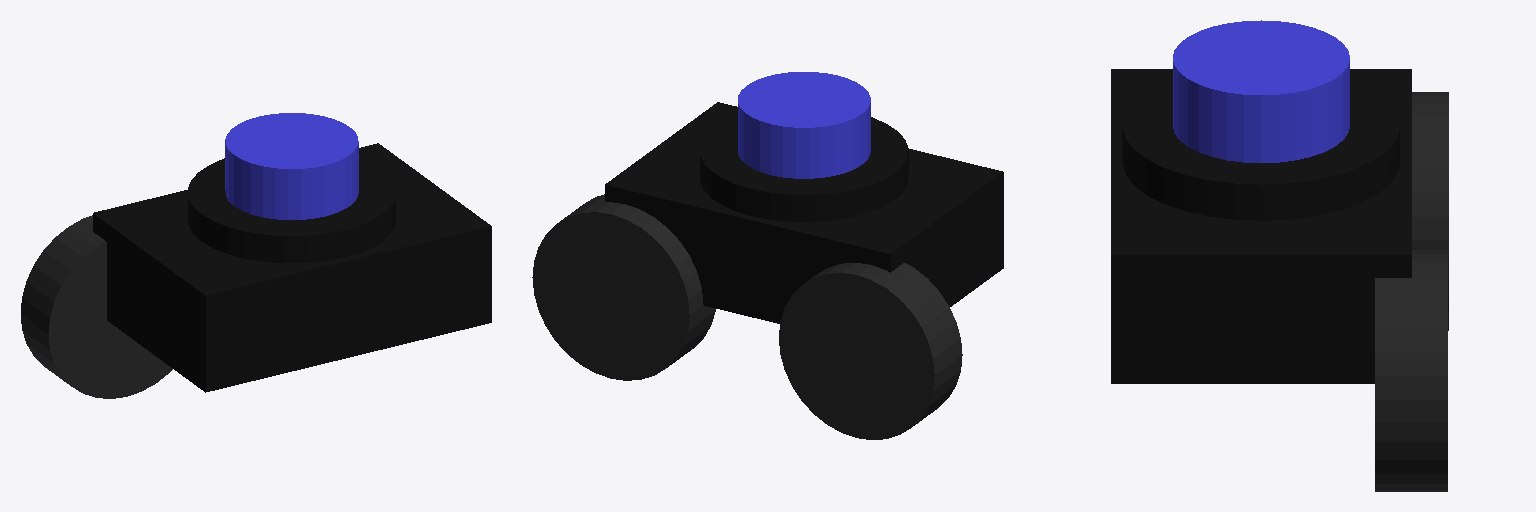
The robot description file, URDF, robot "evolved_robot":
<?xml version="1.0"?>
<robot name="evolved_robot">
  <material name="metal">
    <color rgba="0.7 0.7 0.7 1.0"/>
  </material>
  <material name="plastic">
    <color rgba="0.3 0.3 0.9 1.0"/>
  </material>
  <material name="rubber">
    <color rgba="0.1 0.1 0.1 1.0"/>
  </material>
  <material name="red">
    <color rgba="1.0 0.0 0.0 1.0"/>
  </material>
  <material name="wheel_material">
    <color rgba="0.2 0.2 0.2 1.0"/>
  </material>
  <link name="base_link">
    <visual>
      <geometry><box size="0.28637169089568115 0.1960602003020291 0.09287101595846198"/></geometry>
      <material name="rubber"/>
    </visual>
    <collision>
      <geometry><box size="0.28637169089568115 0.1960602003020291 0.09287101595846198"/></geometry>
    </collision>
    <inertial>
      <mass value="5.0"/>
      <inertia ixx="0.03922052312302388" ixy="0" ixz="0" 
               iyy="0.07552814245967372" iyz="0" 
               izz="0.10037362290743611"/>
    </inertial>
  </link>
  <link name="link1">
    <visual>
      <geometry><cylinder radius="0.09072331750728062" length="0.05224604820342885"/></geometry>
      <material name="rubber"/>
    </visual>
    <collision>
      <geometry><cylinder radius="0.09072331750728062" length="0.05224604820342885"/></geometry>
    </collision>
    <inertial>
      <mass value="0.5"/>
      <inertia ixx="0.00228515088095463" ixy="0" ixz="0" 
               iyy="0.00228515088095463" iyz="0" 
               izz="0.004115360169763425"/>
    </inertial>
  </link>
  <joint name="joint1" type="fixed">
    <parent link="base_link"/>
    <child link="link1"/>
    <origin xyz="0 0 0.04643550797923099" rpy="0 0 0"/>
    <axis xyz="-0.7124041055074635 0.4990807681182688 -0.4933546162250736"/>
    <dynamics damping="0.781245773549296" friction="0.1"/>
  </joint>
  <link name="link2">
    <visual>
      <geometry>
        <cylinder radius="0.0788071383776354" length="0.048028545692934216"/>
      </geometry>
      <material name="wheel_material"/>
    </visual>
    <collision>
      <geometry>
        <cylinder radius="0.0788071383776354" length="0.048028545692934216"/>
      </geometry>
    </collision>
    <inertial>
      <mass value="1.0"/>
      <inertia ixx="0.0017448696982661324" ixy="0" ixz="0" 
               iyy="0.0017448696982661324" iyz="0" 
               izz="0.003105282529635887"/>
    </inertial>
  </link>
  <joint name="joint2" type="continuous">
    <parent link="base_link"/>
    <child link="link2"/>
    <origin xyz="0.12318584544784057 0.09803010015101454 -0.04643550797923099" rpy="1.5708 0 0"/>
    <axis xyz="0 0 1"/>
    <dynamics damping="0.8995090492385468" friction="0.1"/>
  </joint>
  <link name="link3">
    <visual>
      <geometry><cylinder radius="0.057906016253063526" length="0.05"/></geometry>
      <material name="plastic"/>
    </visual>
    <collision>
      <geometry><cylinder radius="0.057906016253063526" length="0.05"/></geometry>
    </collision>
    <inertial>
      <mass value="0.5"/>
      <inertia ixx="0.0010466100129083477" ixy="0" ixz="0" 
               iyy="0.0010466100129083477" iyz="0" 
               izz="0.0016765533591500286"/>
    </inertial>
  </link>
  <joint name="joint3" type="revolute">
    <parent link="base_link"/>
    <child link="link3"/>
    <origin xyz="0 0 0.09643550797923099" rpy="0 0 0"/>
    <axis xyz="-0.5778677998062801 0.7147492811140795 -0.39395719449447225"/>
    <dynamics damping="0.6452047831008052" friction="0.1"/>
    <limit lower="-2.428232280574141" upper="1.4434792267609997" effort="100" velocity="100"/>
  </joint>
  <link name="link4">
    <visual>
      <geometry>
        <cylinder radius="0.07815080847927738" length="0.048557610339922924"/>
      </geometry>
      <material name="wheel_material"/>
    </visual>
    <collision>
      <geometry>
        <cylinder radius="0.07815080847927738" length="0.048557610339922924"/>
      </geometry>
    </collision>
    <inertial>
      <mass value="1.0"/>
      <inertia ixx="0.0017233740099848226" ixy="0" ixz="0" 
               iyy="0.0017233740099848226" iyz="0" 
               izz="0.003053774432982347"/>
    </inertial>
  </link>
  <joint name="joint4" type="continuous">
    <parent link="base_link"/>
    <child link="link4"/>
    <origin xyz="-0.12318584544784057 0.09803010015101454 -0.04643550797923099" rpy="1.5708 0 0"/>
    <axis xyz="0 0 1"/>
    <dynamics damping="0.6849628307493921" friction="0.1"/>
  </joint>
</robot>

--- What the picture shows (computed from the rendered views, not written in the file) ---
Views: 3 orthographic renders of the robot side by side, from view 1: azimuth 30°, elevation 25°; view 2: azimuth 150°, elevation 25°; view 3: azimuth 270°, elevation 25°.
Robot: evolved_robot — 5 links, 4 joints (1 revolute, 2 continuous, 1 fixed); root link base_link; default pose: all joints at 0.
Links seen in each view (by area): view 1: base_link, link4, link3, link1; view 2: base_link, link4, link2, link3, link1; view 3: base_link, link3, link1, link2, link4.
Link boxes in pixels (x1=…): base_link: x1=93, y1=143, x2=491, y2=392; link4: x1=21, y1=215, x2=172, y2=398; link3: x1=225, y1=113, x2=358, y2=219; link1: x1=188, y1=158, x2=395, y2=262; base_link: x1=605, y1=102, x2=1003, y2=323; link4: x1=779, y1=263, x2=962, y2=439; link2: x1=532, y1=194, x2=715, y2=380; link3: x1=738, y1=72, x2=870, y2=178; link1: x1=700, y1=117, x2=908, y2=221; base_link: x1=1111, y1=69, x2=1411, y2=383; link3: x1=1173, y1=20, x2=1349, y2=162; link1: x1=1122, y1=81, x2=1399, y2=220; link2: x1=1375, y1=250, x2=1447, y2=491; link4: x1=1412, y1=92, x2=1448, y2=330.
Size in the robot's own frame: 0.4033 by 0.2203 by 0.2467 metres.
Geometry: primitives only (box / cylinder / sphere), no mesh files.